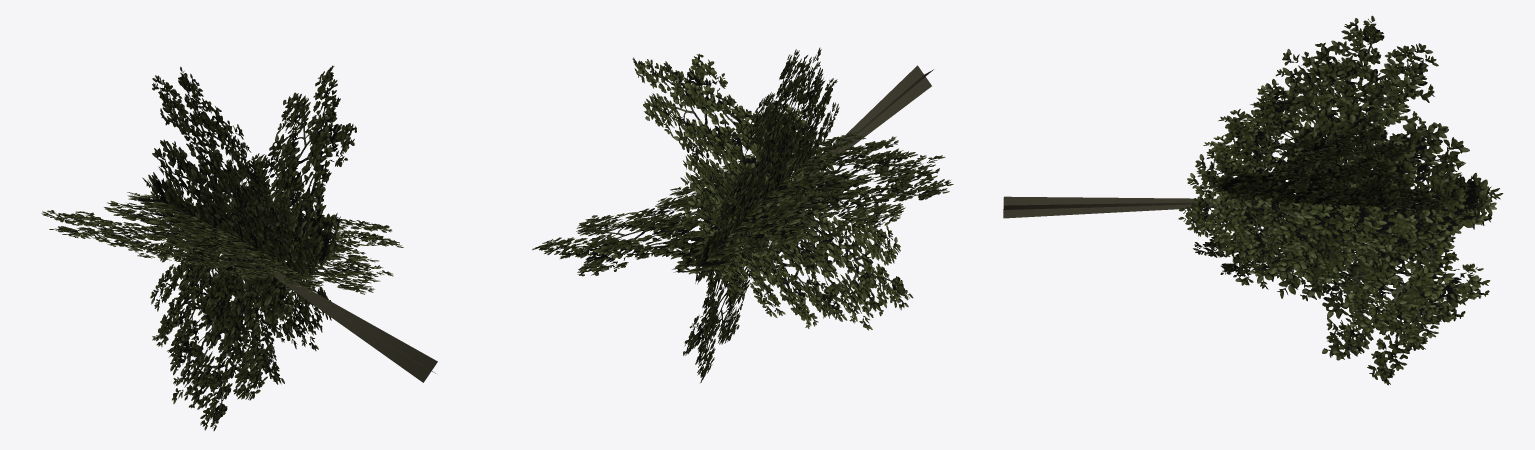
File: MEP_Tree_02_c_LOD_02.fbx
3 renders of one model, left to right at view 1: azimuth 30°, elevation 25°; view 2: azimuth 150°, elevation 25°; view 3: azimuth 270°, elevation 25°, orthographic. The views are drawn at different scales.
Visible parts, largest first — view 1: MEP_Leafs_02_b_LOD_02; view 2: MEP_Leafs_02_b_LOD_02; view 3: MEP_Leafs_02_b_LOD_02.
Boxes of the visible parts, x1,y1,x2,y2 form: MEP_Leafs_02_b_LOD_02: (41, 65, 437, 430); MEP_Leafs_02_b_LOD_02: (532, 47, 953, 382); MEP_Leafs_02_b_LOD_02: (1003, 15, 1503, 385).
Size of the model in its own units: 17.43 by 15.06 by 18.6.
